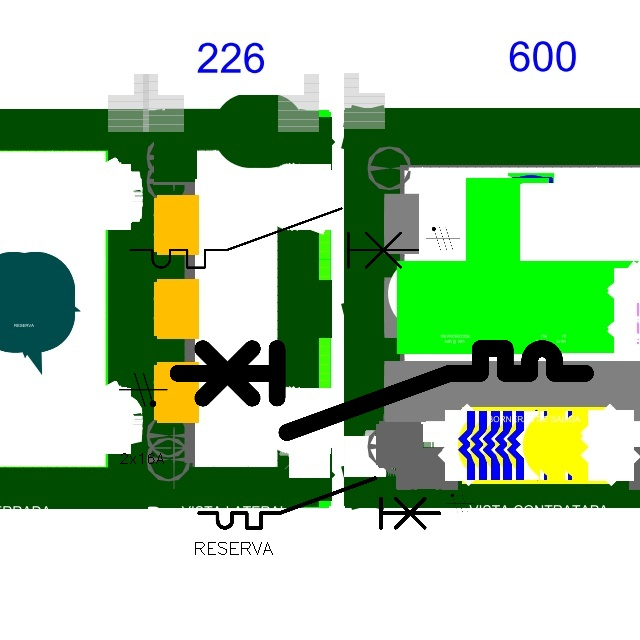interruptor_termomagnetico: (167, 338, 595, 443), (123, 201, 426, 275), (193, 472, 446, 534)
